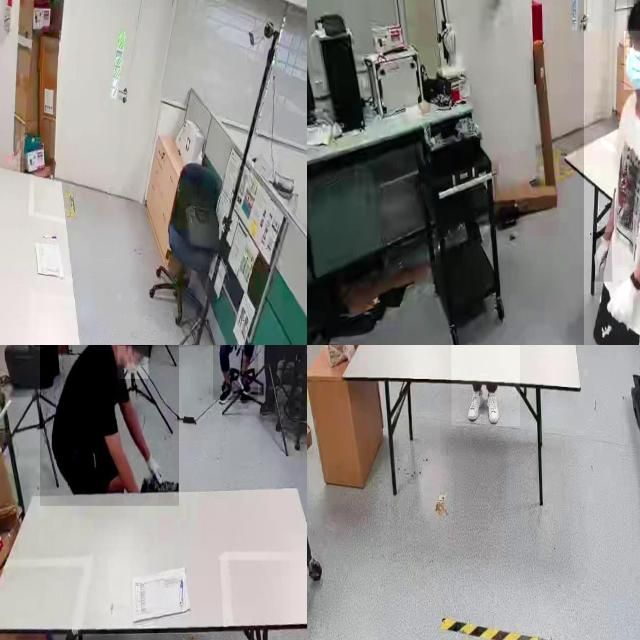face_mask: (118, 346, 148, 379), (623, 31, 640, 89)
hand_glove: (611, 267, 640, 334), (144, 448, 168, 492), (592, 232, 612, 282)
head_nohelmet: (627, 0, 640, 30)
person: (40, 345, 179, 507), (584, 0, 640, 345), (451, 345, 520, 426), (213, 345, 258, 401)
shoes: (466, 386, 483, 424), (485, 388, 500, 430), (236, 365, 254, 399), (217, 377, 235, 406)
